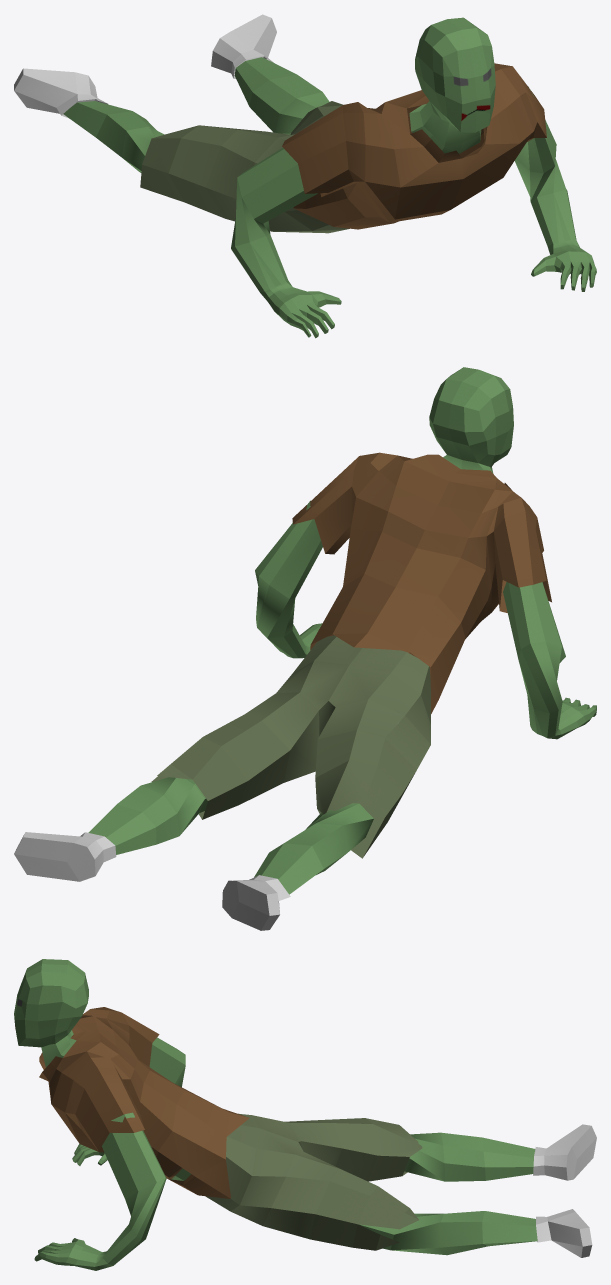
Rendered from ZombieCrawl(153).obj.
The picture shows the model from 3 angles, top to bottom: view 1: azimuth 30°, elevation 25°; view 2: azimuth 150°, elevation 25°; view 3: azimuth 270°, elevation 25°; orthographic projection. The views are drawn at different scales.
Parts seen in each view (by area): view 1: Object001; view 2: Object001; view 3: Object001.
Boxes of the visible parts, <box> form: Object001: <box>14,14,596,338</box>; Object001: <box>14,367,596,930</box>; Object001: <box>14,959,596,1270</box>.
Bounding box in the file's own units: 28.43 × 26.18 × 53.37.
